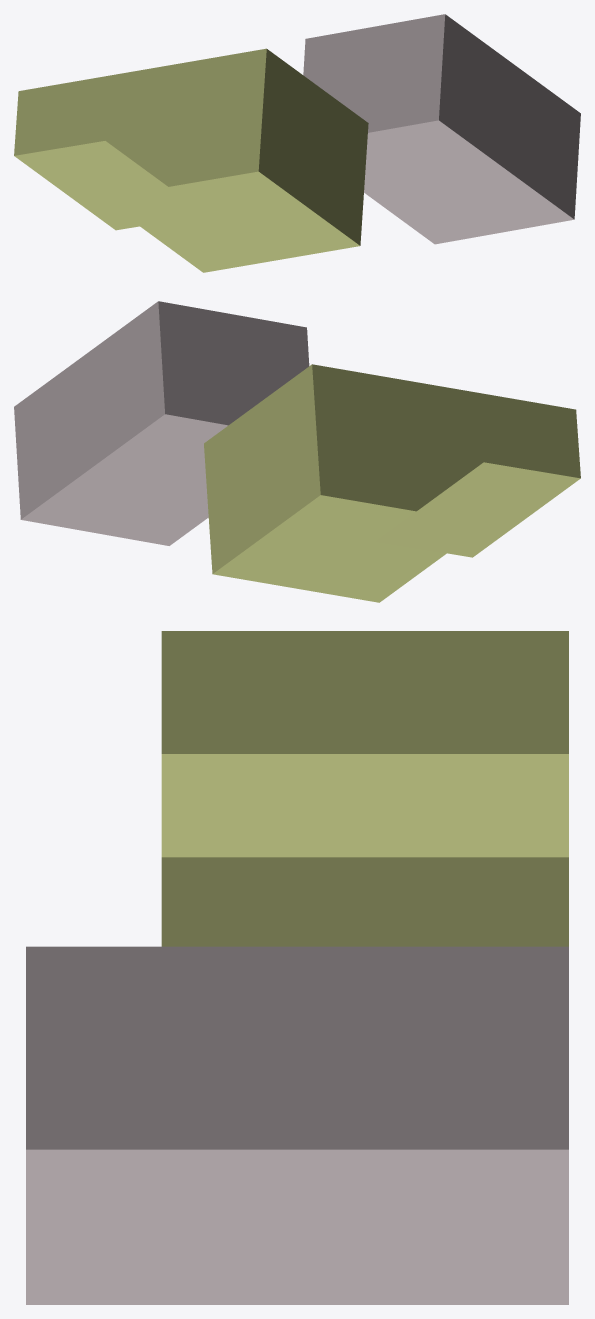
3 views of the same model, one above another, from view 1: azimuth 30°, elevation 25°; view 2: azimuth 150°, elevation 25°; view 3: azimuth 270°, elevation 25° (orthographic). The views are drawn at different scales.
Visible parts, largest first — view 1: 0_1_0_0_1_0_2_2_1_2; view 2: 0_1_0_0_1_0_2_2_1_2; view 3: 0_1_0_0_1_0_2_2_1_2.
Boxes of the visible parts, bbox=[...] form: 0_1_0_0_1_0_2_2_1_2: bbox=[14, 14, 580, 272]; 0_1_0_0_1_0_2_2_1_2: bbox=[14, 301, 580, 602]; 0_1_0_0_1_0_2_2_1_2: bbox=[26, 631, 568, 1304].
Size of the model in its own units: 22.01 by 6.78 by 12.
